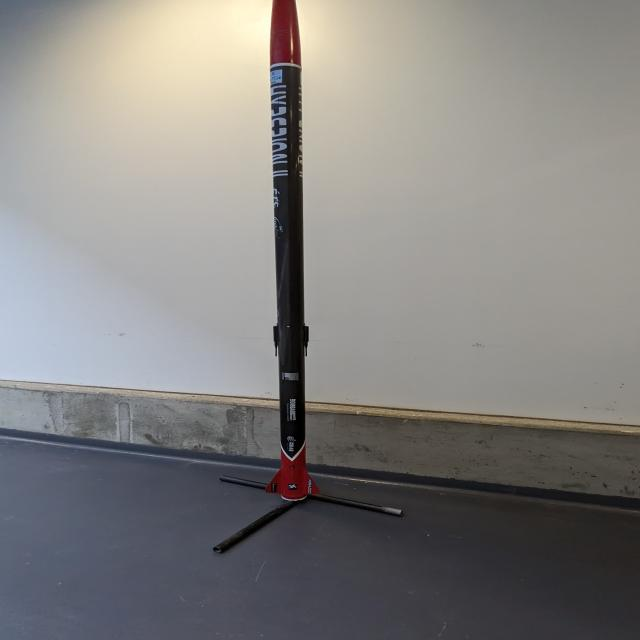Rocket: (265, 0, 320, 501)
